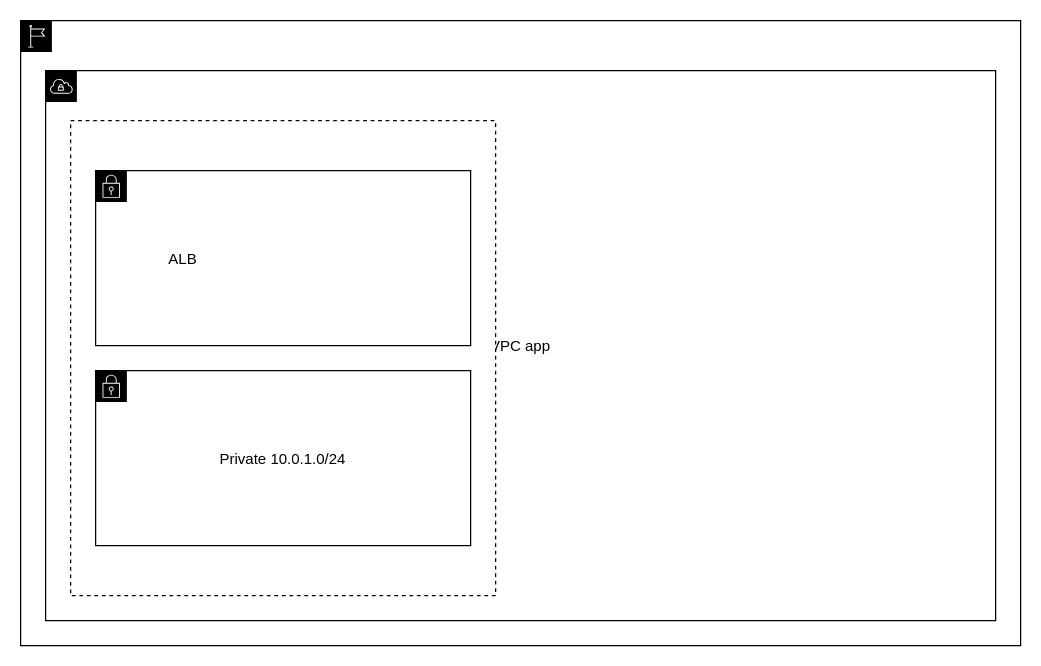
Image size: 1041x666. Some labels were removed from this diagram. Here are the shapes that lost their labels. From the top down, the box of each, then its label:
(94, 169, 471, 346): Public 10.0.101.0/24
(69, 119, 496, 596): sa-east-1a
